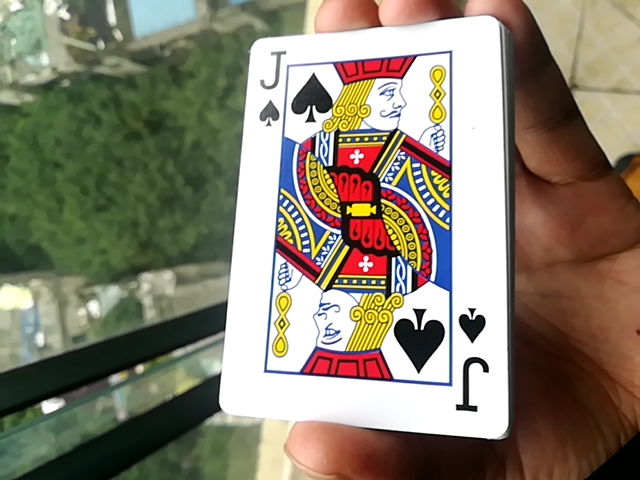ht j: (212, 12, 510, 438)
